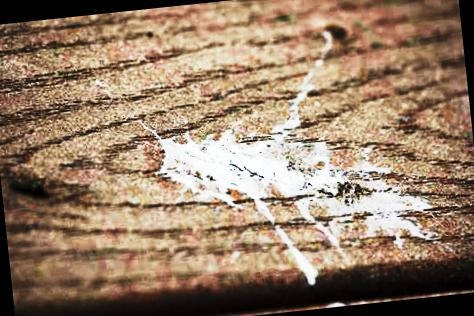Bird Poop: (143, 71, 428, 285)
